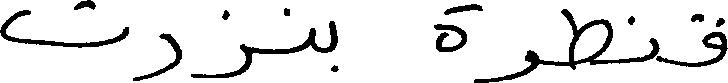X: (0, 0, 129, 52), (481, 1, 536, 82), (193, 5, 249, 82), (437, 0, 479, 82), (564, 4, 609, 74), (136, 28, 179, 82), (694, 9, 727, 71), (285, 3, 314, 58), (629, 11, 655, 67), (331, 16, 336, 76)
